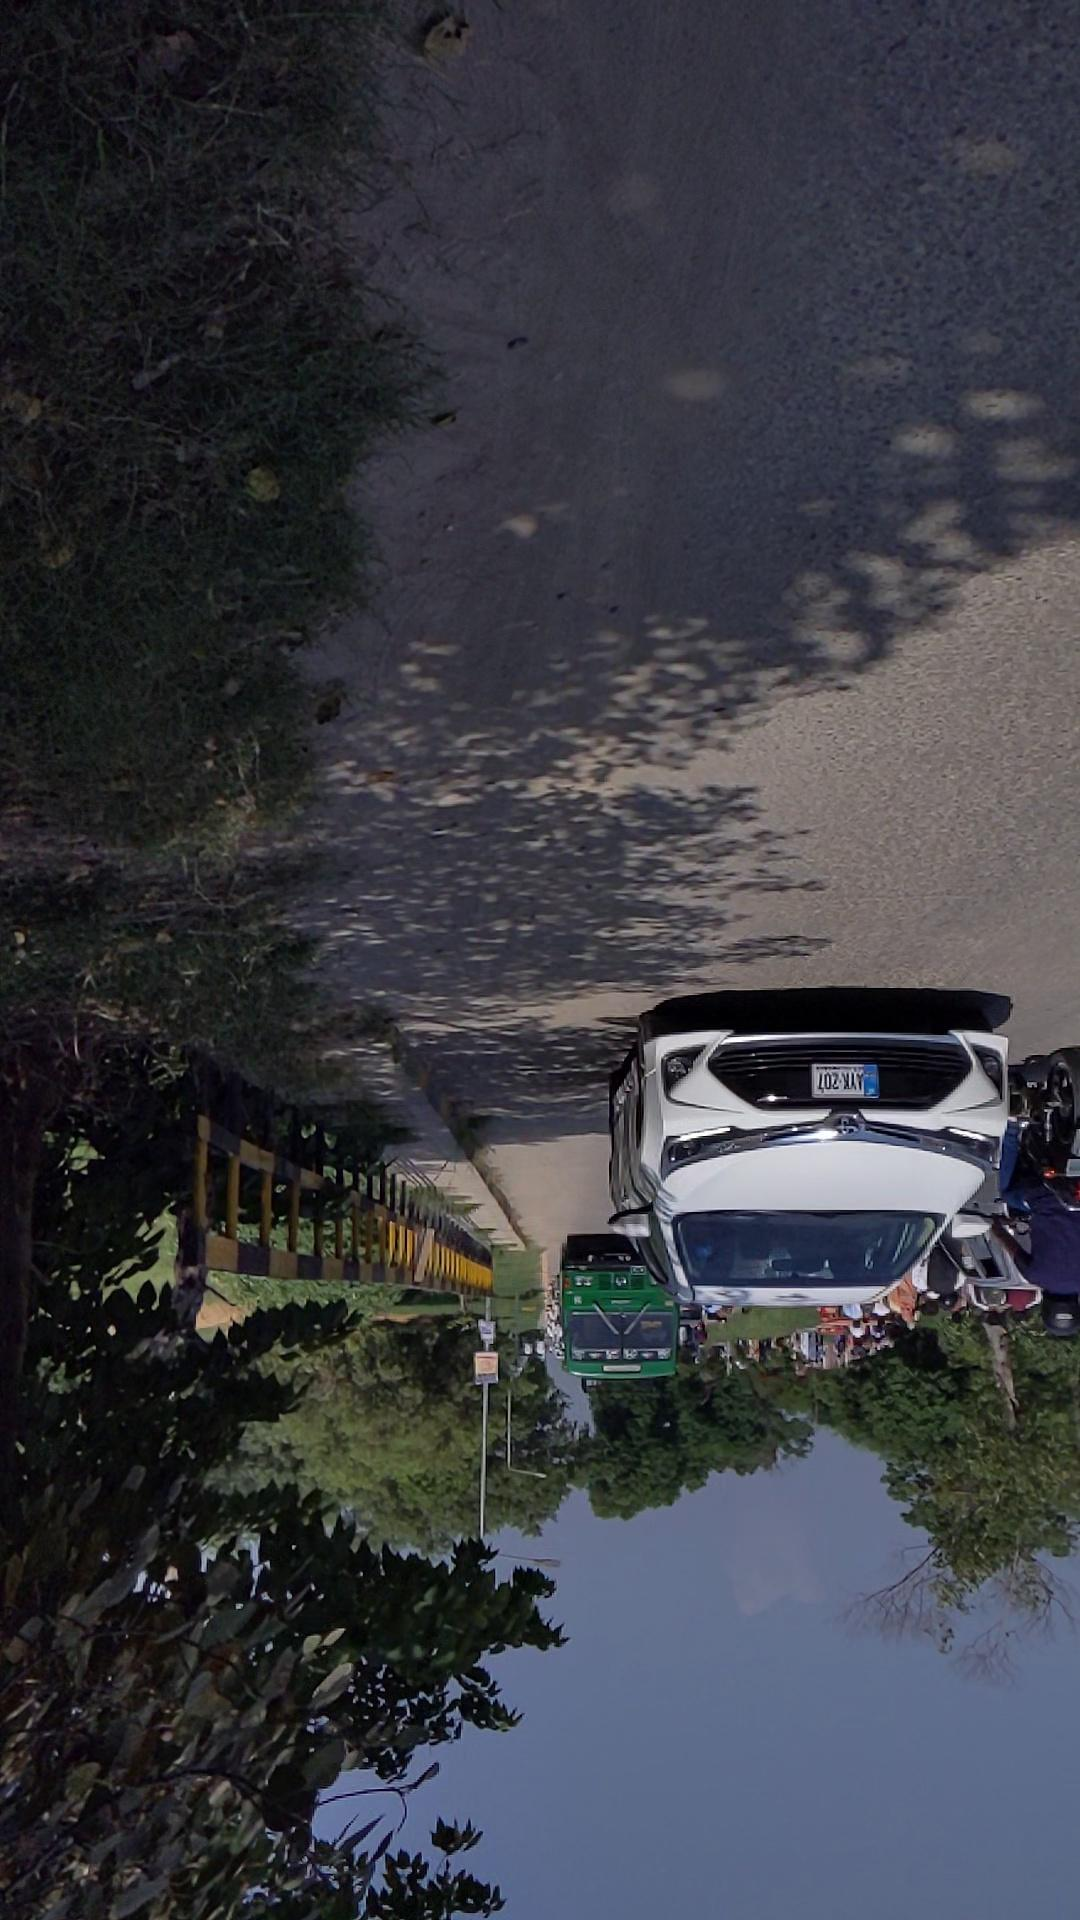windshield: (116, 622, 410, 715)
